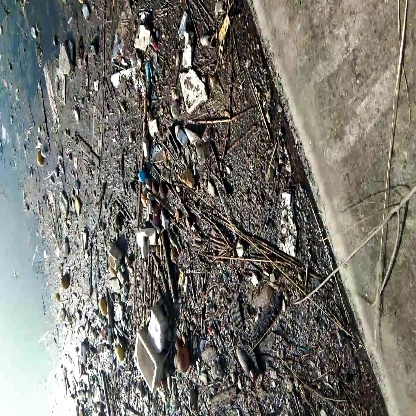plastic-garbage: (130, 305, 172, 392)
